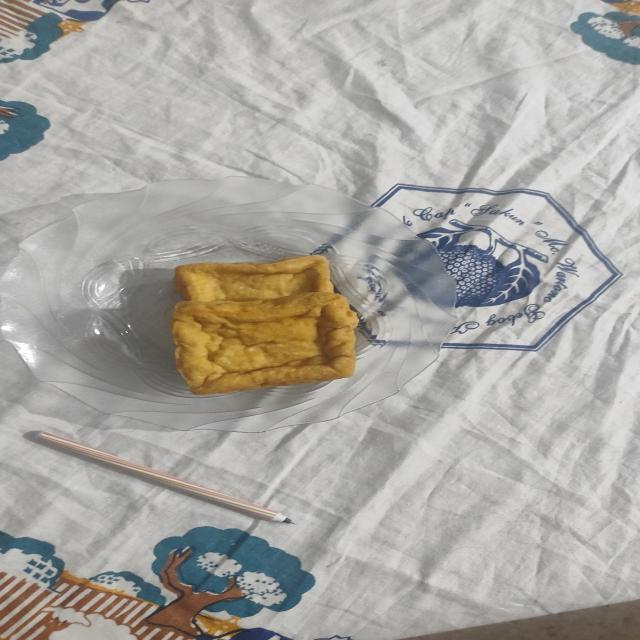tahu_goreng: (172, 292, 358, 394), (174, 255, 334, 302)
